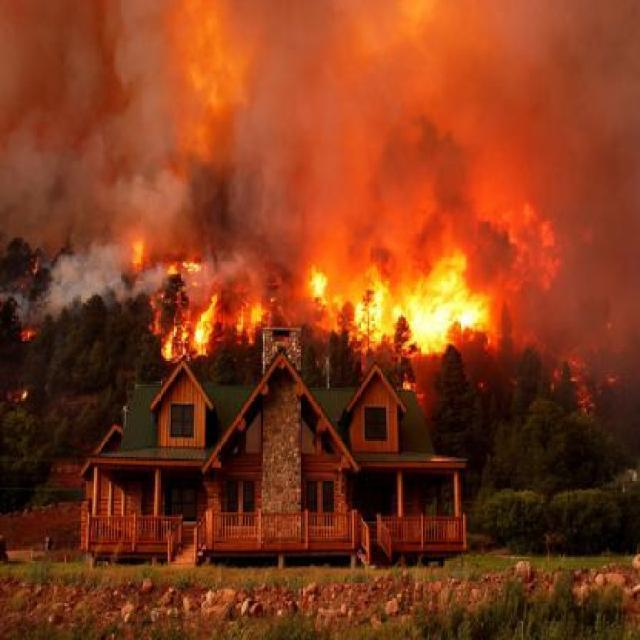Fire: (140, 220, 492, 365)
Smoke: (0, 0, 627, 395)
